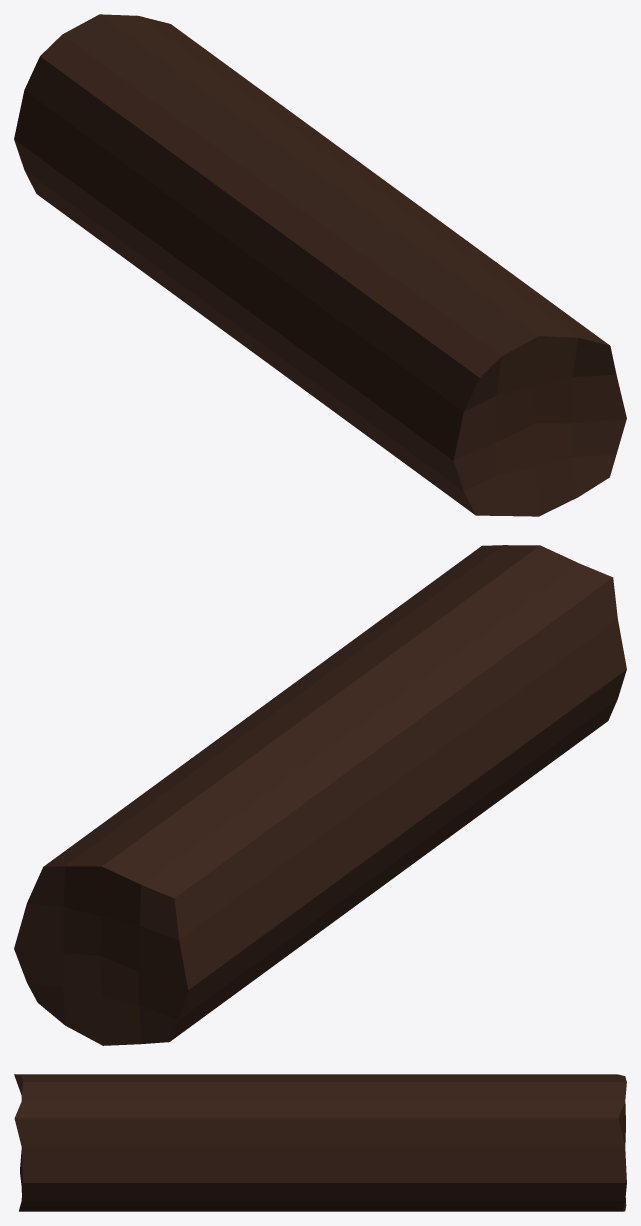
Rendered from Wood.fbx.
3 views of the same model, one above another, from view 1: azimuth 30°, elevation 25°; view 2: azimuth 150°, elevation 25°; view 3: azimuth 270°, elevation 25° (orthographic). The views are drawn at different scales.
Visible parts, largest first — view 1: Cube; view 2: Cube; view 3: Cube.
Part boxes in pixels (left/top/right/bottom): Cube: left=14, top=14, right=626, bottom=516; Cube: left=14, top=545, right=626, bottom=1045; Cube: left=14, top=1074, right=626, bottom=1211.
Bounding box in the file's own units: 121 × 120 × 537.
